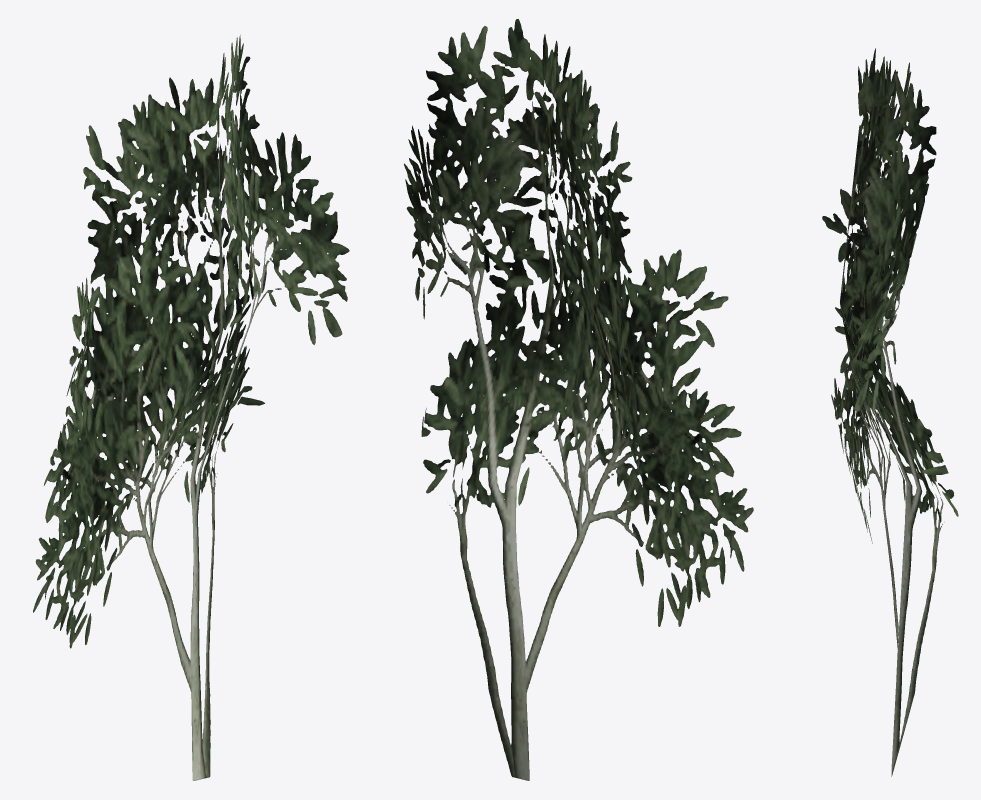
File: Plant04Plant01.FBX
3 views of the same model, side by side, from view 1: azimuth 30°, elevation 25°; view 2: azimuth 150°, elevation 25°; view 3: azimuth 270°, elevation 25° (orthographic). The views are drawn at different scales.
Visible parts, largest first — view 1: Plant04Plant01; view 2: Plant04Plant01; view 3: Plant04Plant01.
Boxes of the visible parts, bbox=[...] form: Plant04Plant01: bbox=[33, 35, 349, 780]; Plant04Plant01: bbox=[404, 19, 753, 780]; Plant04Plant01: bbox=[822, 48, 958, 776].
Bounding box in the file's own units: 4 × 8 × 1.65.
